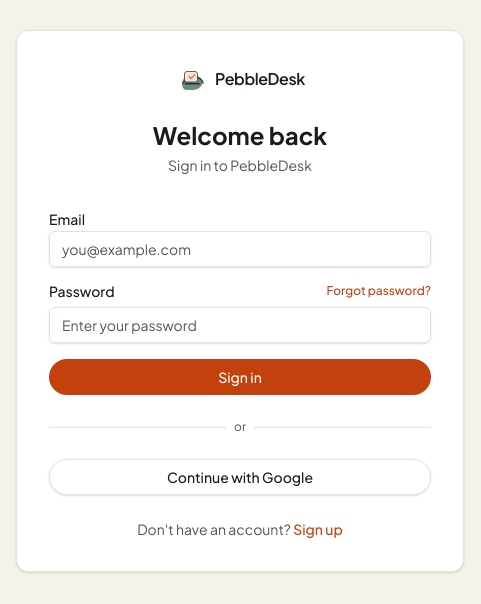
Test case: public auth pages › shows a field validation error when password is empty
Step 1. Type "jane@example.com" into the field labelled "Email" → (240, 249), box [49, 231, 431, 267]
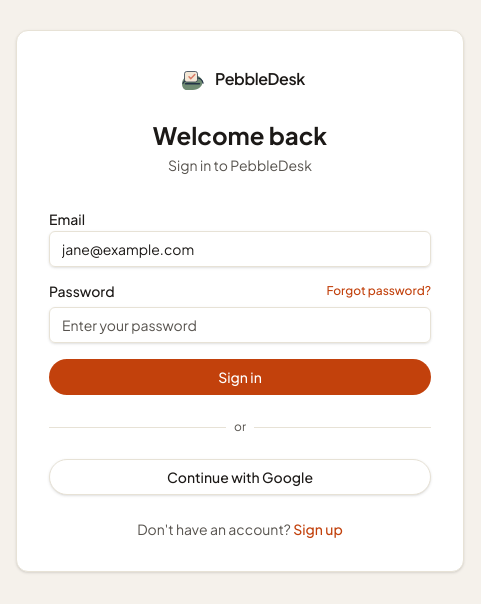
Step 2. Submit the form "Sign in", box [49, 207, 431, 395]
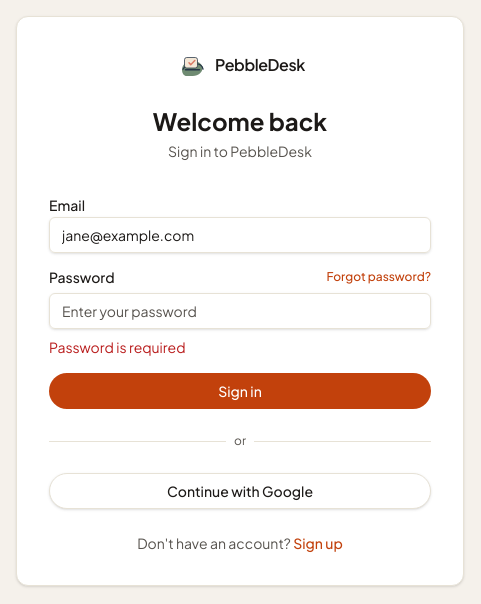
Now the text "Password is required" is shown, box [49, 338, 186, 356]
